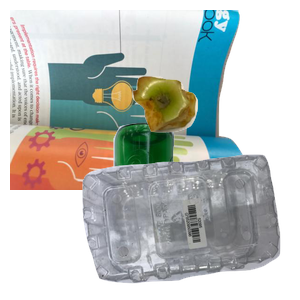glass: (107, 120, 278, 300)
paper: (10, 10, 250, 190)
plastic: (80, 152, 300, 300)
trash: (130, 74, 300, 199)
